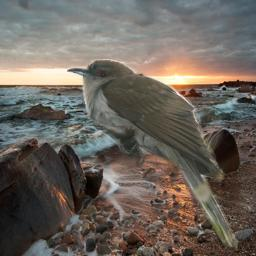Cuckoo: (67, 59, 238, 254)
